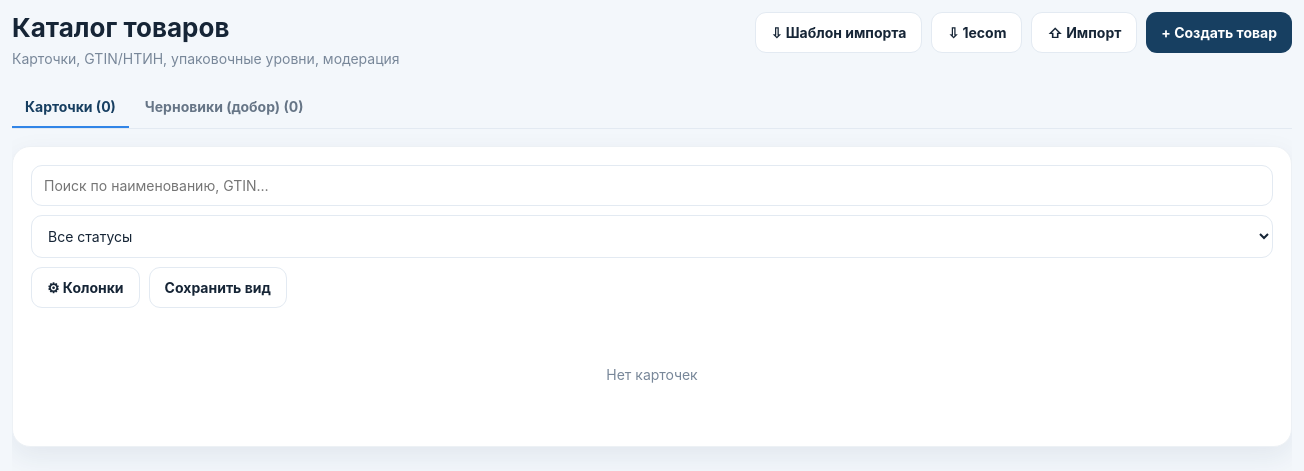
Test: ProductsPage (UI-04: cards list + drafts) › вкладка «Черновики» показывает добор + действие «Исправить код»
Click the button "Черновики (добор) (0)" at x=224, y=108, box [132,87,316,128]
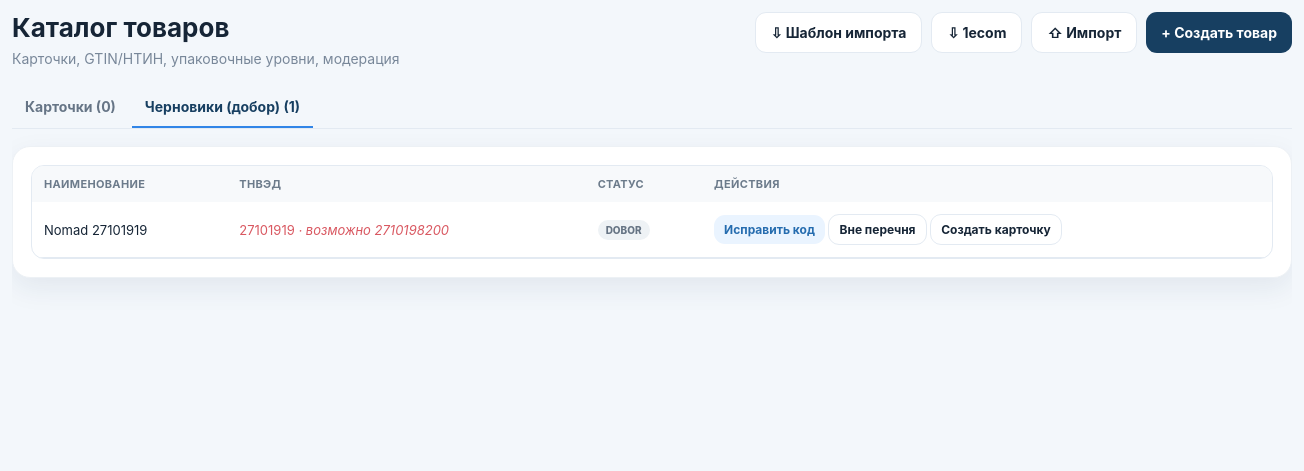
Expected: the text "Nomad 27101919" is shown, [32,202,227,258]
Expected: the button "Исправить код" is shown, [714,215,825,244]
